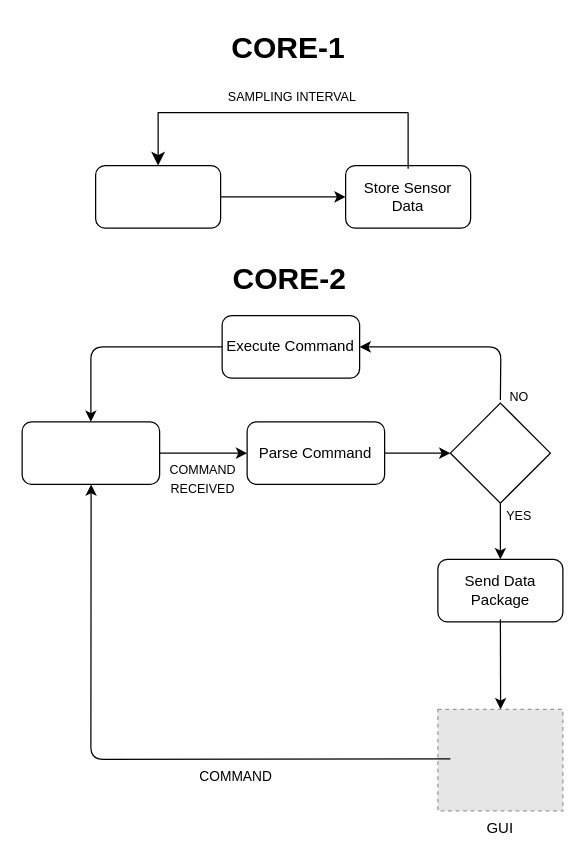
Some shapes in this 585 by 859 pixel diagram are drawn without their labels. Grey dashed boxes stand in for pictures. Each missing label, with the centre of its shape:
"Data requested by GUI ?" goes at point 499,452.
"Sample Sensors" goes at point 157,196.
"Wait for Command" goes at point 90,452.
